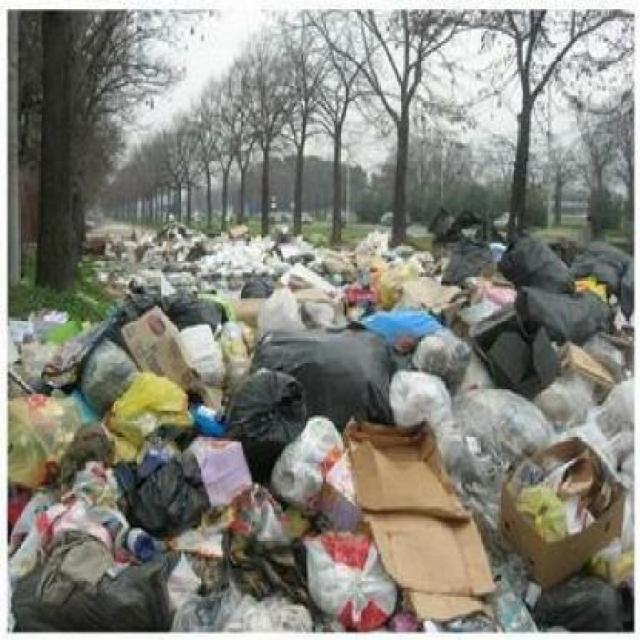garbage: (113, 217, 392, 626), (399, 222, 630, 624), (11, 308, 106, 626)
